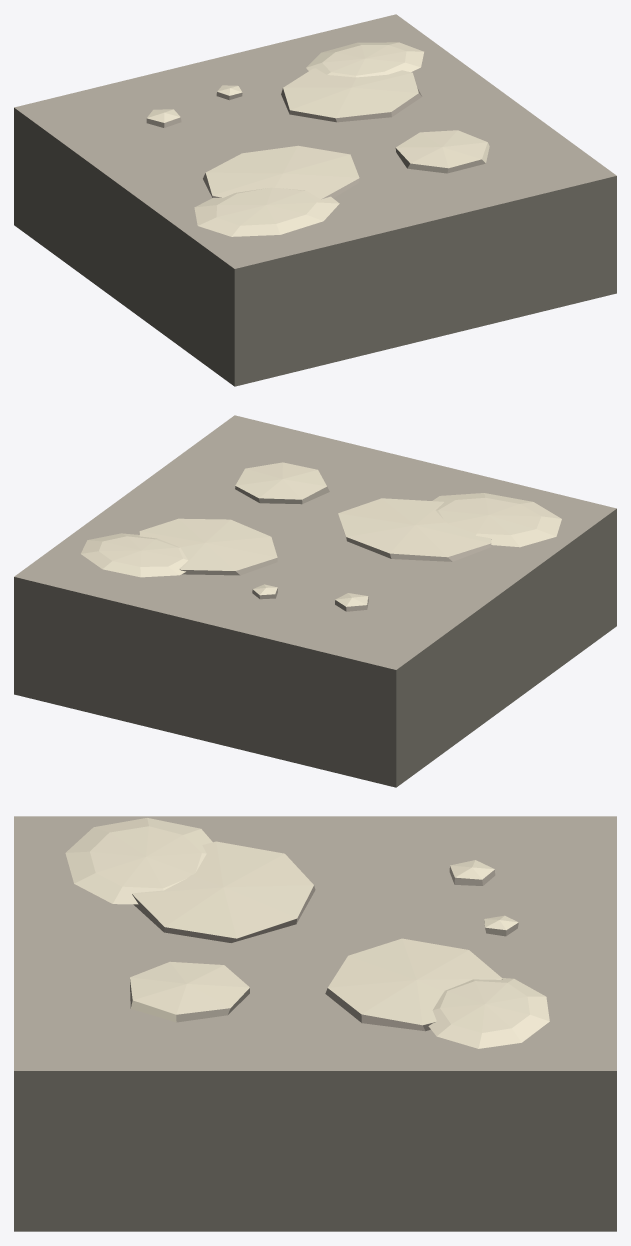
File: tile_frosted_stone.glb
3 views of the same model, one above another, from view 1: azimuth 30°, elevation 25°; view 2: azimuth 150°, elevation 25°; view 3: azimuth 270°, elevation 25° (orthographic). The views are drawn at different scales.
Parts seen in each view (by area): view 1: froststone_cap, froststone_body, froststone_slab_0, froststone_slab_1, froststone_snow_0, froststone_snow_1, froststone_slab_2, froststone_peb_a; view 2: froststone_cap, froststone_body, froststone_slab_0, froststone_slab_1, froststone_snow_0, froststone_snow_1, froststone_slab_2, froststone_peb_a; view 3: froststone_cap, froststone_body, froststone_slab_0, froststone_slab_1, froststone_snow_0, froststone_snow_1, froststone_slab_2, froststone_peb_a, froststone_peb_b.
Part boxes in pixels (x1,y1,x2,y2): froststone_cap: [14, 14, 616, 281]; froststone_body: [14, 121, 616, 386]; froststone_slab_0: [203, 145, 359, 199]; froststone_slab_1: [281, 68, 422, 122]; froststone_snow_0: [194, 187, 339, 236]; froststone_snow_1: [306, 42, 423, 77]; froststone_slab_2: [395, 130, 489, 173]; froststone_peb_a: [146, 109, 181, 127]; froststone_cap: [14, 415, 616, 682]; froststone_body: [14, 522, 616, 787]; froststone_slab_0: [338, 498, 491, 561]; froststone_slab_1: [139, 518, 277, 575]; froststone_snow_0: [432, 493, 561, 547]; froststone_snow_1: [81, 533, 188, 577]; froststone_slab_2: [235, 462, 329, 504]; froststone_peb_a: [335, 593, 368, 611]; froststone_cap: [14, 816, 616, 1088]; froststone_body: [14, 1088, 616, 1231]; froststone_slab_0: [132, 841, 315, 942]; froststone_slab_1: [325, 938, 502, 1031]; froststone_snow_0: [65, 818, 212, 904]; froststone_snow_1: [428, 978, 549, 1048]; froststone_slab_2: [130, 961, 249, 1022]; froststone_peb_a: [449, 860, 495, 885]; froststone_peb_b: [484, 915, 518, 936].
Size of the model in its own units: 1.7 by 0.5437 by 1.7.
